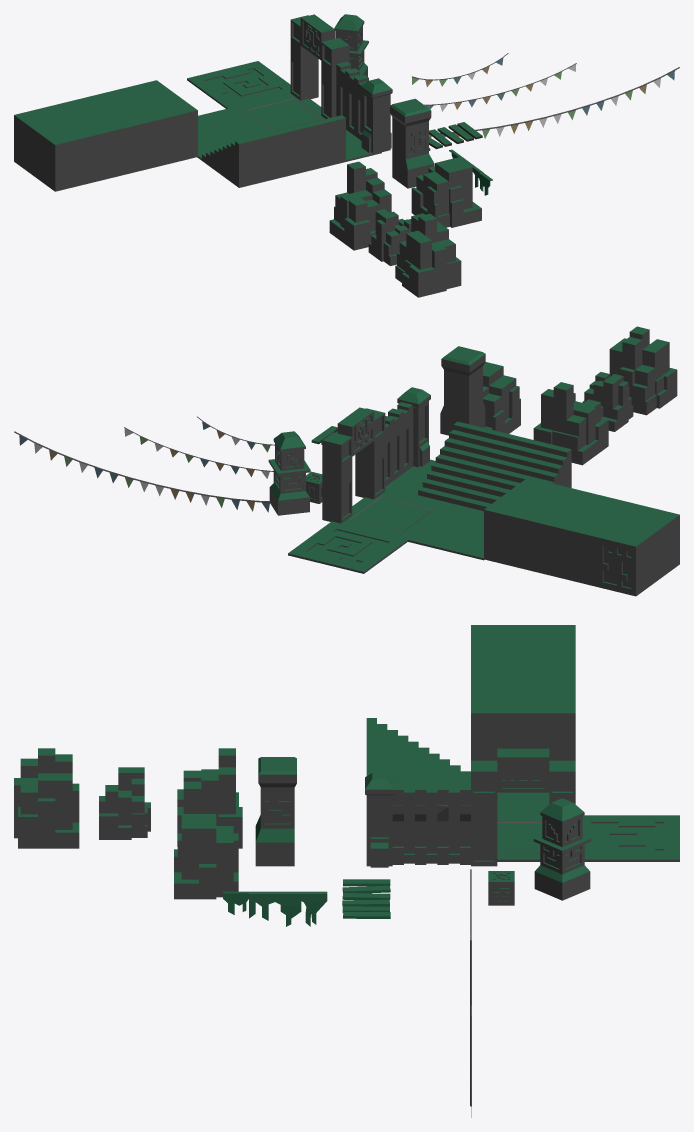
File: Temple.fbx
The picture shows the model from 3 angles, top to bottom: view 1: azimuth 30°, elevation 25°; view 2: azimuth 150°, elevation 25°; view 3: azimuth 270°, elevation 25°; orthographic projection. The views are drawn at different scales.
Visible parts, largest first — view 1: Decorative Cube, Cube, Wide Stairs, Doorway, Rock 2, Rock 1, Rock 4, Pillar Corner, Floor 3, Floor 2, Stairs, Pillar (+8 smaller); view 2: Decorative Cube, Cube, Doorway, Wide Stairs, Stairs, Rock 2, Rock 4, Floor 3, Pillar Corner, Floor 2, Tower 1, Floor 1 (+8 smaller); view 3: Cube, Doorway, Rock 2, Rock 1, Courtyad Wall, Decorative Cube, Floor 3, Tower 1, Pillar Corner, Wide Stairs, Rock 4, Rock 3 (+6 smaller).
Part boxes in pixels (bbox=[...]): Decorative Cube: bbox=[14, 97, 126, 191]; Cube: bbox=[85, 80, 197, 174]; Wide Stairs: bbox=[198, 124, 310, 187]; Doorway: bbox=[290, 14, 349, 118]; Rock 2: bbox=[395, 213, 461, 297]; Rock 1: bbox=[411, 157, 481, 227]; Rock 4: bbox=[329, 161, 391, 250]; Pillar Corner: bbox=[390, 98, 434, 188]; Floor 3: bbox=[187, 61, 290, 108]; Floor 2: bbox=[228, 93, 324, 133]; Stairs: bbox=[306, 115, 381, 170]; Pillar: bbox=[360, 78, 392, 153]; Decorative Cube: bbox=[560, 496, 679, 596]; Cube: bbox=[484, 477, 603, 577]; Doorway: bbox=[322, 407, 385, 523]; Wide Stairs: bbox=[452, 431, 571, 515]; Stairs: bbox=[385, 421, 495, 507]; Rock 2: bbox=[609, 326, 677, 415]; Rock 4: bbox=[533, 382, 608, 465]; Floor 3: bbox=[288, 521, 407, 573]; Pillar Corner: bbox=[440, 346, 485, 435]; Floor 2: bbox=[341, 491, 451, 539]; Tower 1: bbox=[268, 431, 310, 515]; Floor 1: bbox=[408, 508, 484, 560]; Cube: bbox=[471, 669, 575, 760]; Doorway: bbox=[471, 748, 575, 866]; Rock 2: bbox=[14, 748, 79, 848]; Rock 1: bbox=[174, 814, 238, 899]; Courtyad Wall: bbox=[392, 804, 470, 864]; Decorative Cube: bbox=[471, 625, 575, 669]; Floor 3: bbox=[582, 815, 679, 861]; Tower 1: bbox=[533, 798, 591, 900]; Pillar Corner: bbox=[255, 757, 296, 866]; Wide Stairs: bbox=[366, 718, 470, 786]; Rock 4: bbox=[177, 748, 242, 848]; Rock 3: bbox=[99, 767, 150, 839].
Bounding box in the file's own units: 7002 × 1493 × 5100.
